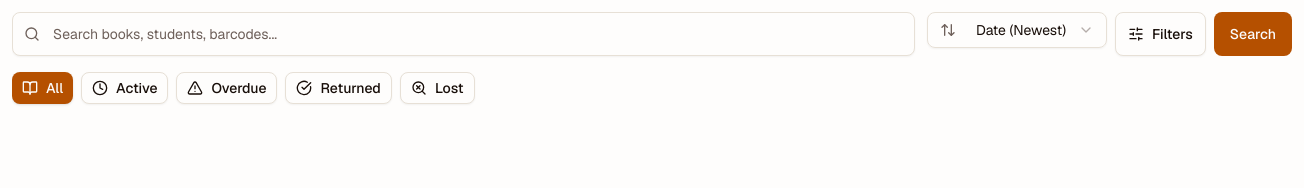
Test: TransactionSearch › displays active filters when status is set
The width and height of the screenshot is (1304, 188).
# Click active status
Step 1. Click the button "Active" → (125, 88), box top-left (81, 72), bottom-right (168, 104)
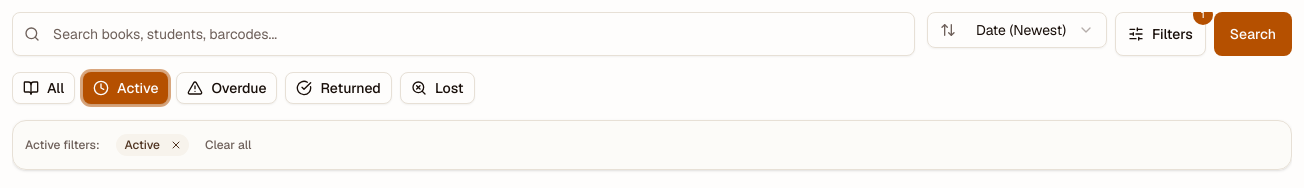
Expected: the text "Active filters:" is shown, top-left (25, 137), bottom-right (100, 153)
